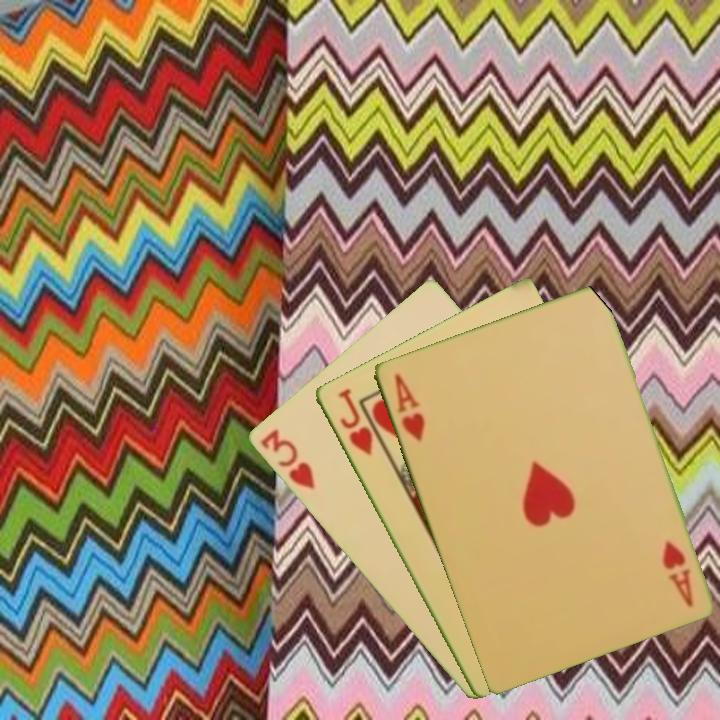3h: (256, 425, 318, 493)
Ah: (390, 370, 428, 444), (659, 536, 696, 611)
Jh: (334, 384, 375, 458)
